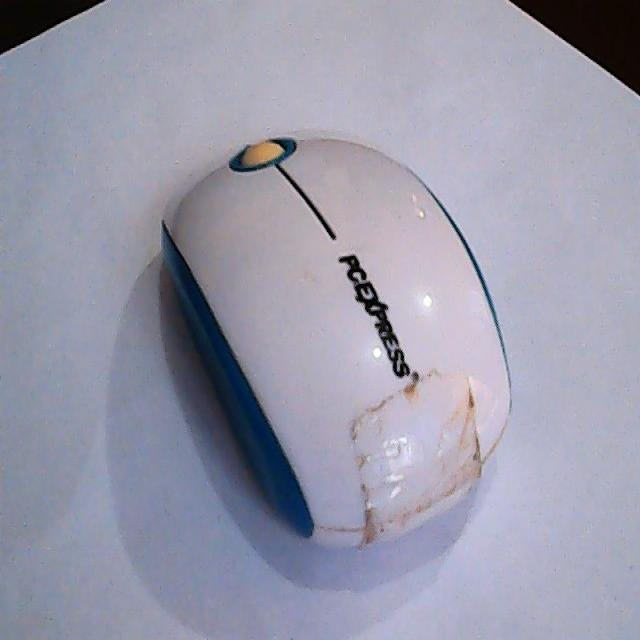mouse: (157, 127, 518, 556)
